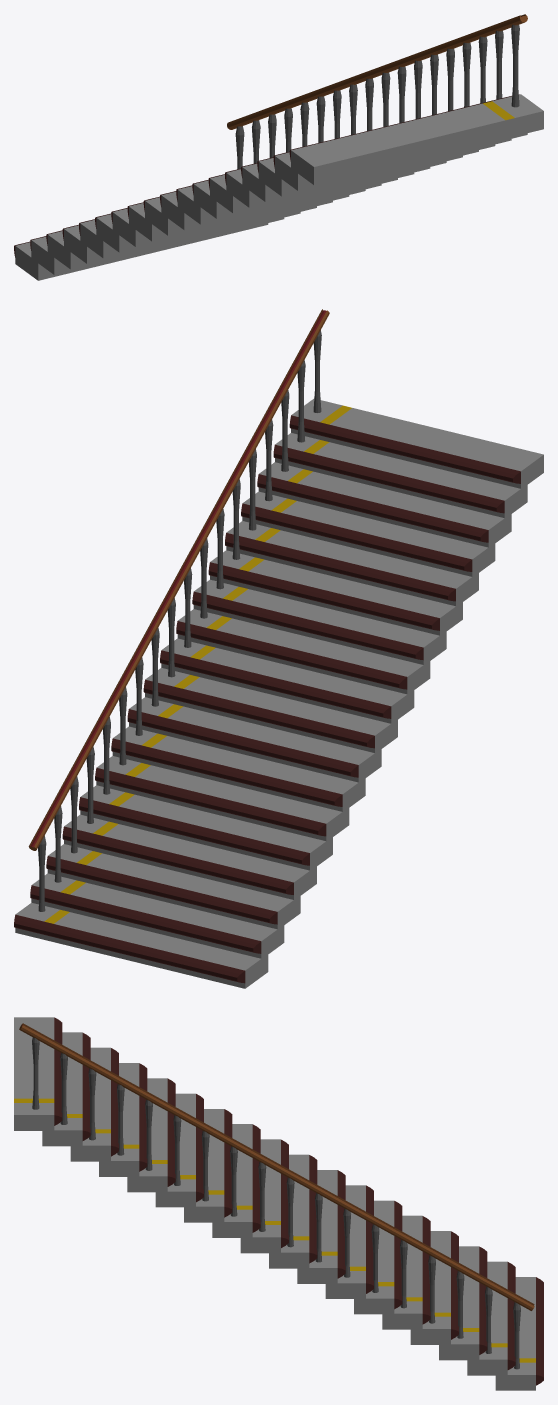
Rendered from Фрагмент Лестницы (Прямой участок).fbx.
The picture shows the model from 3 angles, top to bottom: view 1: azimuth 30°, elevation 25°; view 2: azimuth 150°, elevation 25°; view 3: azimuth 270°, elevation 25°; orthographic projection. The views are drawn at different scales.
Parts seen in each view (by area): view 1: Cube, Цилиндр, Цилиндр.001; view 2: Cube, Цилиндр, Цилиндр.001; view 3: Cube, Цилиндр, Цилиндр.001.
Part boxes in pixels (bbox=[...]): Cube: bbox=[14, 94, 543, 280]; Цилиндр: bbox=[235, 24, 519, 169]; Цилиндр.001: bbox=[227, 14, 527, 129]; Cube: bbox=[14, 398, 543, 988]; Цилиндр: bbox=[38, 330, 321, 911]; Цилиндр.001: bbox=[28, 309, 329, 850]; Cube: bbox=[14, 1017, 543, 1390]; Цилиндр: bbox=[32, 1037, 520, 1369]; Цилиндр.001: bbox=[19, 1023, 534, 1310].
Size of the model in its own units: 944 by 1616 by 2157.
